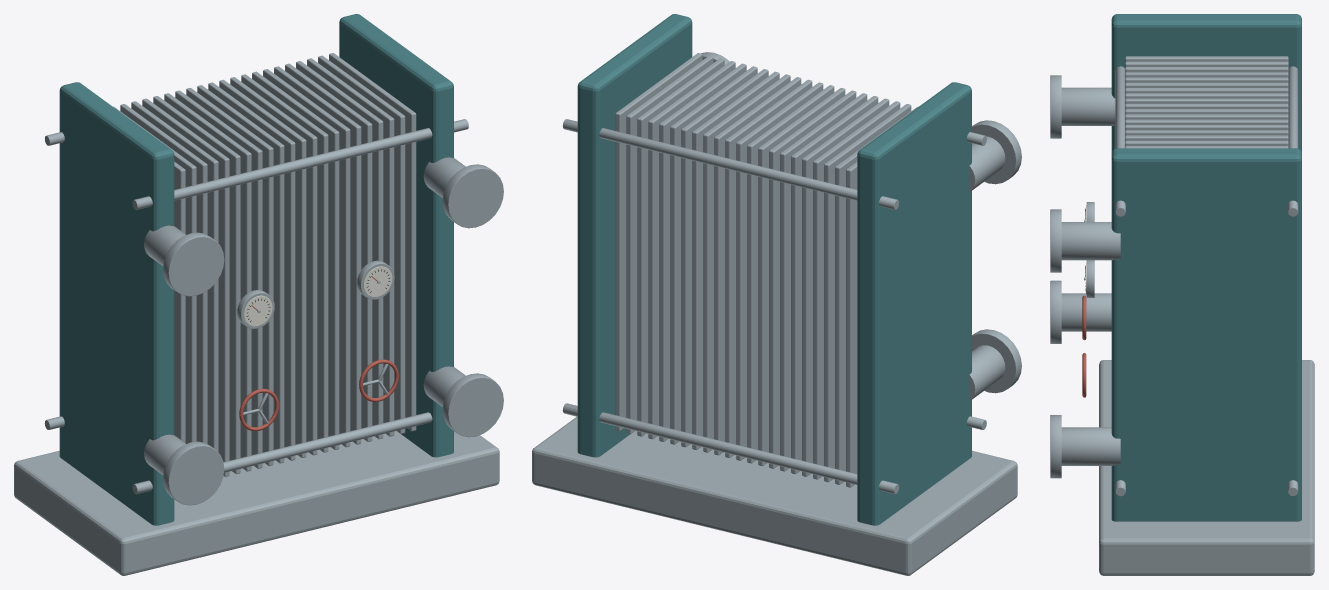
File: SF_PlateHeatExchanger.fbx
3 renders of one model, left to right at view 1: azimuth 30°, elevation 25°; view 2: azimuth 150°, elevation 25°; view 3: azimuth 270°, elevation 25°, orthographic.
Parts seen in each view (by area): view 1: SF_PlateHeatExchanger; view 2: SF_PlateHeatExchanger; view 3: SF_PlateHeatExchanger.
Part boxes in pixels (bbox=[...]): SF_PlateHeatExchanger: bbox=[14, 14, 503, 575]; SF_PlateHeatExchanger: bbox=[532, 14, 1021, 575]; SF_PlateHeatExchanger: bbox=[1050, 14, 1314, 575].
Size of the model in its own units: 190 by 196 by 116.
